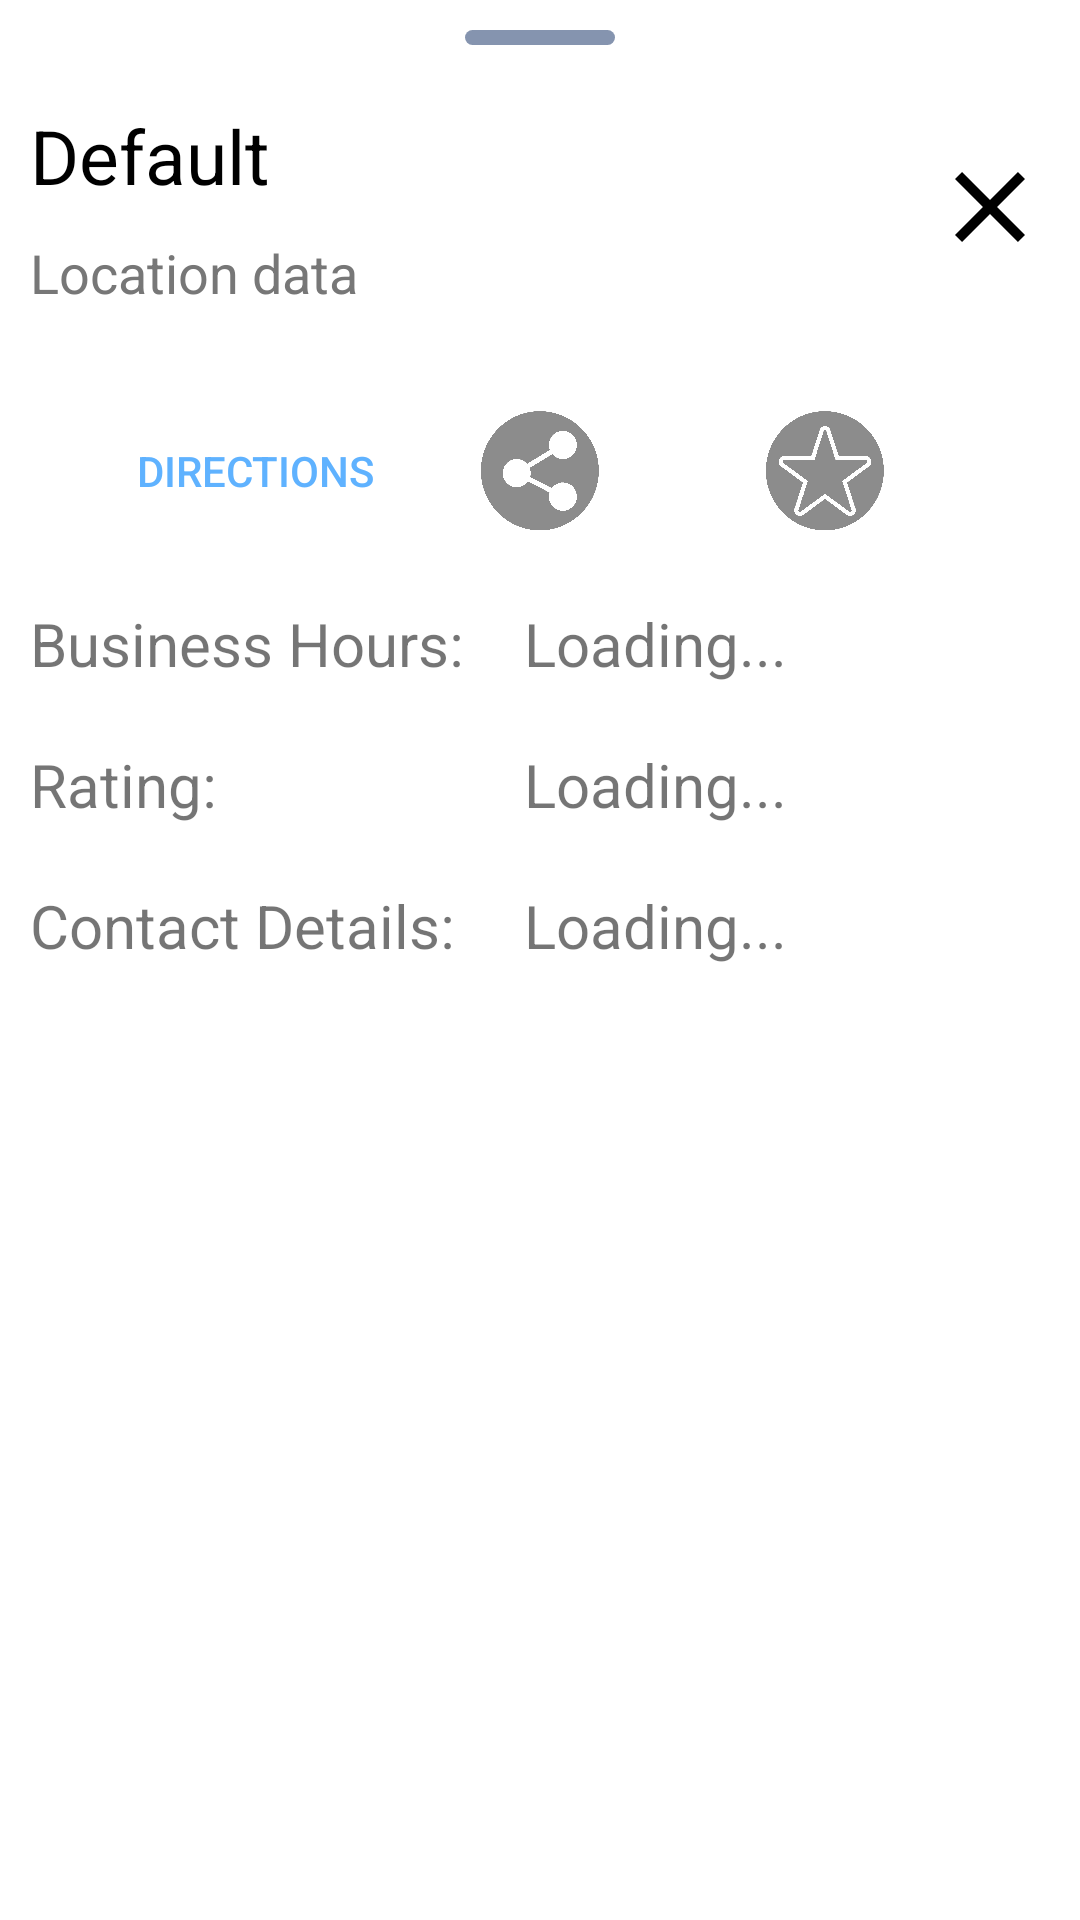

Named icons in this screenshot (1080px×1920px) and their bounding boxes, Rect(x1, y1, x2, y2):
close: Rect(955, 172, 1025, 242)
favourite: Rect(766, 411, 884, 530)
share: Rect(481, 411, 599, 530)
